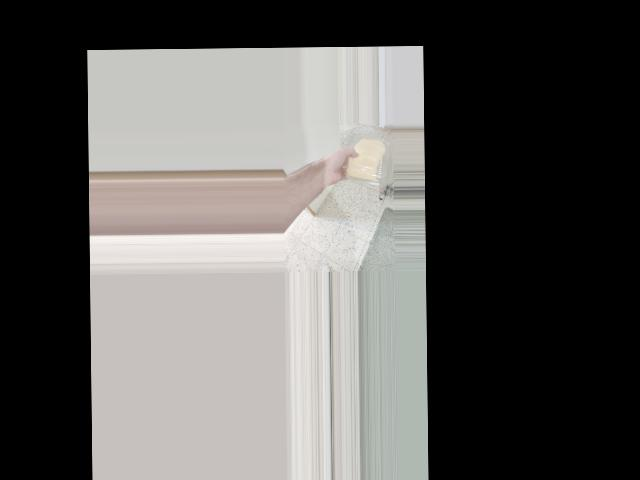cheese: (343, 136, 389, 185)
